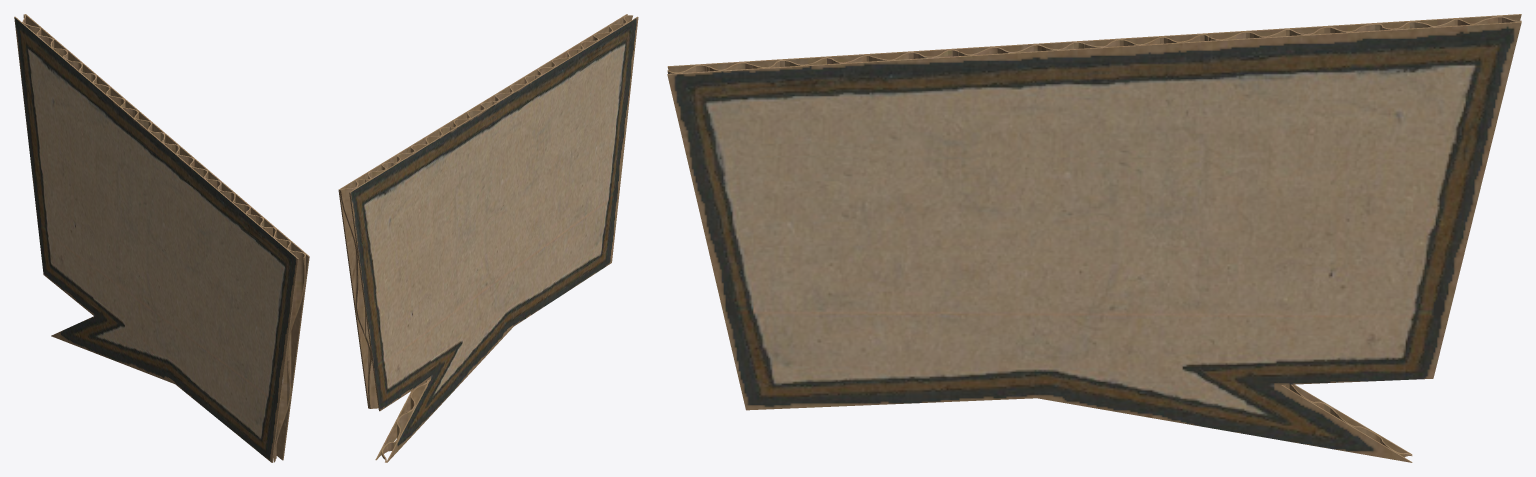
The model's file is TextBubble.fbx.
The picture shows the model from 3 angles, left to right: view 1: azimuth 30°, elevation 25°; view 2: azimuth 150°, elevation 25°; view 3: azimuth 270°, elevation 25°; orthographic projection. The views are drawn at different scales.
Parts seen in each view (by area): view 1: pCube60; view 2: pCube60; view 3: pCube60.
Boxes of the visible parts, box(x1,y1,x2,y2) form: pCube60: box(14, 14, 309, 462); pCube60: box(338, 14, 638, 462); pCube60: box(667, 14, 1521, 462).
Bounding box in the file's own units: 6.21 × 149 × 261.
